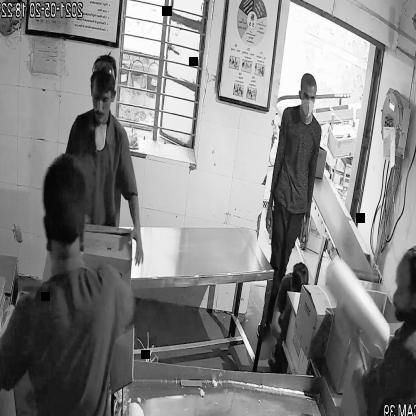no_goggles: (89, 82, 119, 111), (298, 92, 318, 104)
